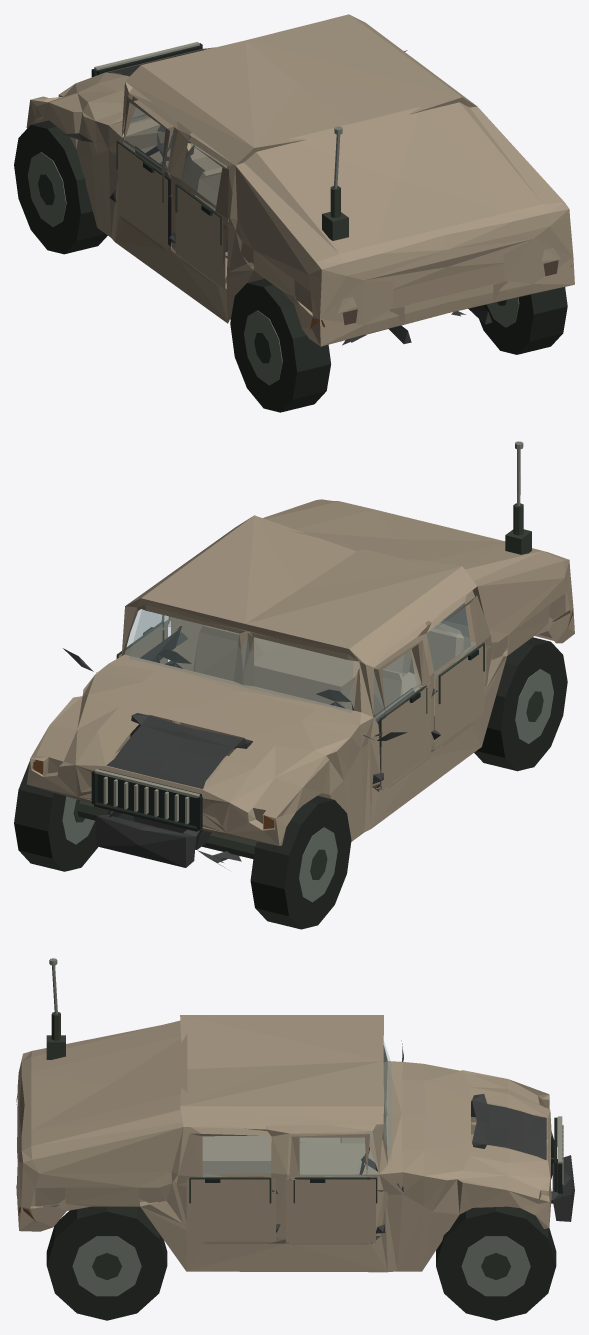
Rendered from humvee_D31_175.glb.
3 views of the same model, one above another, from view 1: azimuth 30°, elevation 25°; view 2: azimuth 150°, elevation 25°; view 3: azimuth 270°, elevation 25° (orthographic). The views are drawn at different scales.
Parts seen in each view (by area): view 1: D31_Flattened_Body, A4.3_rubber (×3), A4.3_hub (×3), D31_glass, D31_shadow, D31_dark, D31_metal; view 2: D31_Flattened_Body, A4.3_rubber (×3), D31_glass, A4.3_hub (×3), D31_dark, D31_metal, D31_shadow, D31_axle; view 3: D31_Flattened_Body, A4.3_rubber (×2), D31_glass, A4.3_hub (×2), D31_shadow, A4.3_trim (×2), D31_dark.
Boxes of the visible parts, <box> form: D31_Flattened_Body: <box>26,14,574,346</box>; A4.3_rubber (×3): <box>14,120,567,412</box>; A4.3_hub (×3): <box>27,152,519,385</box>; D31_glass: <box>123,98,226,210</box>; D31_shadow: <box>116,140,348,245</box>; D31_dark: <box>91,43,212,215</box>; D31_metal: <box>94,42,199,70</box>; D31_Flattened_Body: <box>26,499,574,870</box>; A4.3_rubber (×3): <box>14,637,567,929</box>; D31_glass: <box>125,603,475,721</box>; A4.3_hub (×3): <box>62,669,553,902</box>; D31_dark: <box>91,627,478,831</box>; D31_metal: <box>94,769,199,824</box>; D31_shadow: <box>116,503,531,747</box>; D31_axle: <box>77,801,256,858</box>; D31_Flattened_Body: <box>16,1015,574,1272</box>; A4.3_rubber (×2): <box>46,1206,556,1320</box>; D31_glass: <box>203,1042,391,1176</box>; A4.3_hub (×2): <box>72,1236,530,1296</box>; D31_shadow: <box>46,1012,377,1203</box>; A4.3_trim (×2): <box>92,1253,510,1279</box>; D31_dark: <box>205,1117,562,1193</box>.
Bounding box in the file's own units: 5.21 × 4.2 × 8.15.
Materials: 10 (1 with a texture image).
